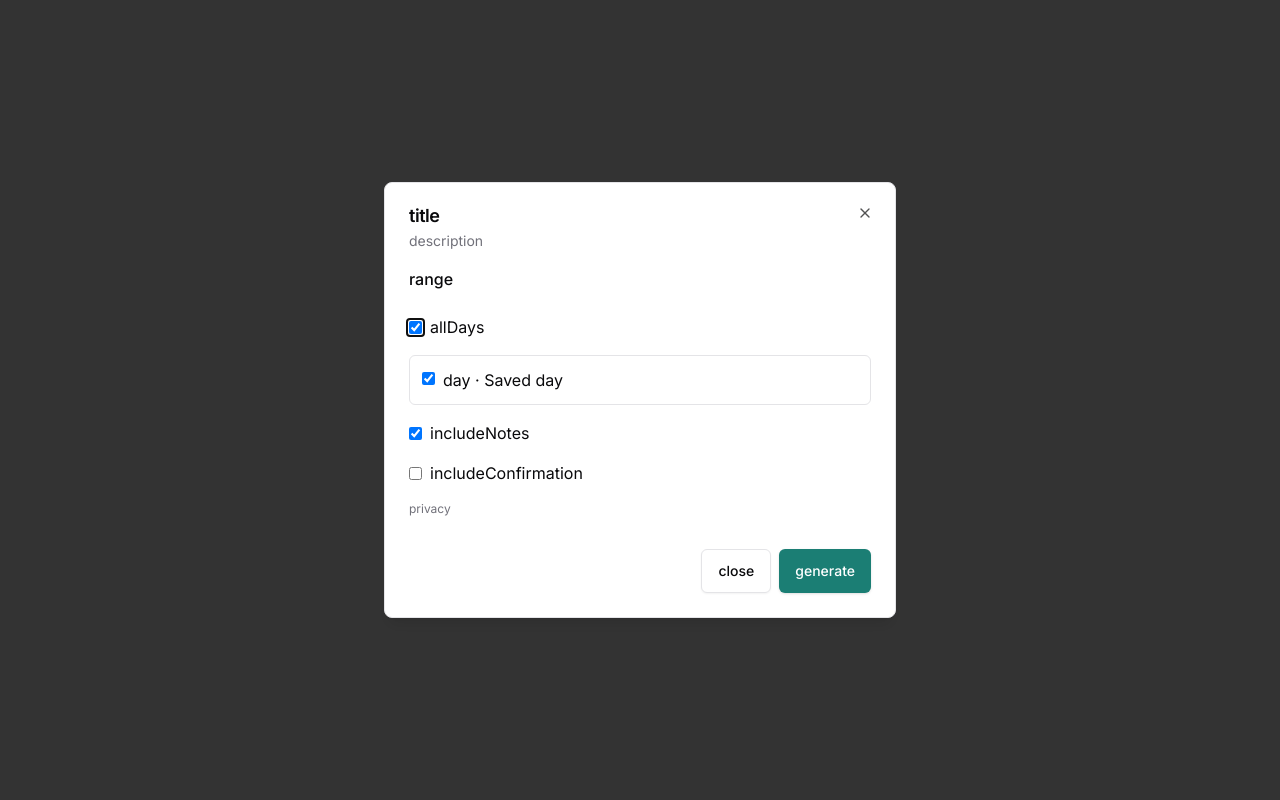
Test: PDF export dialog › blocks new exports while saving or offline
Click the button "generate".
click(825, 571)  # box [779,549,871,593]
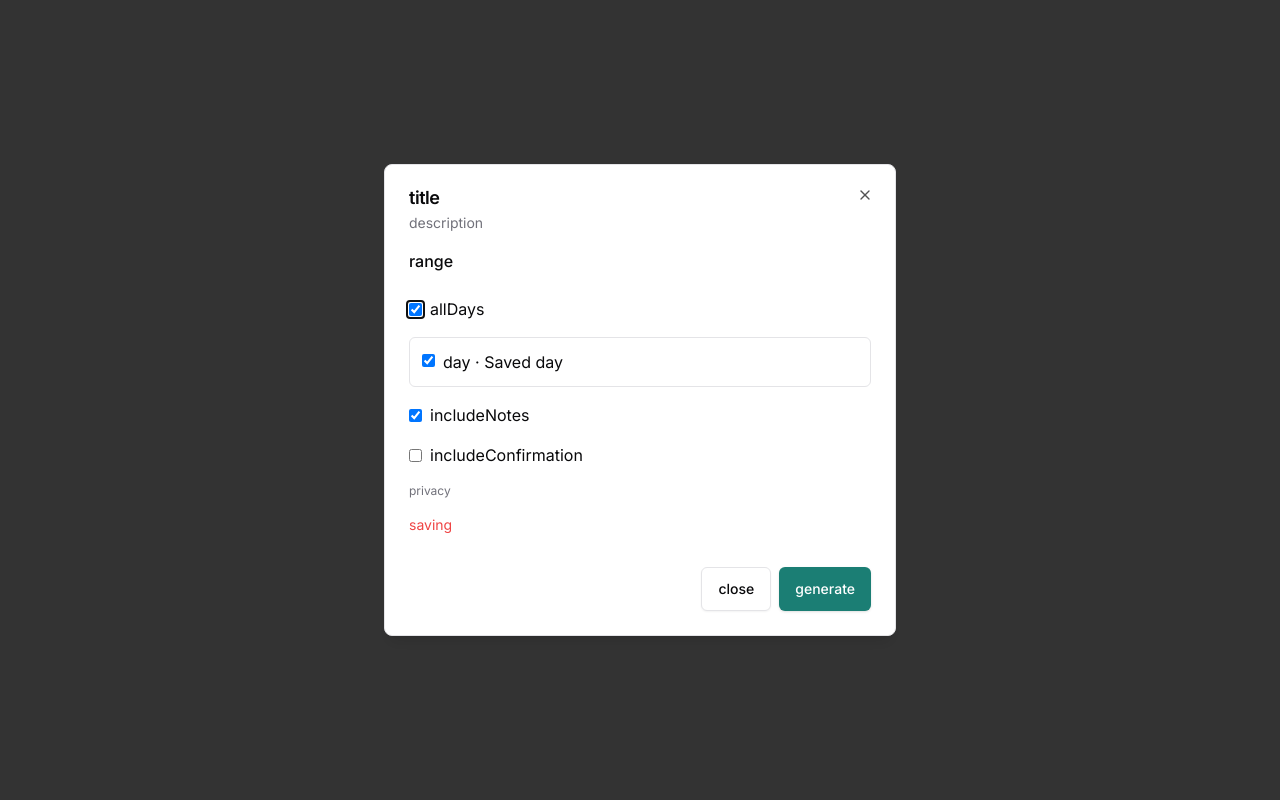
Result: the message reads "saving" at [409,516,452,533]
Click the button "generate".
click(825, 589)  # box [779,567,871,611]
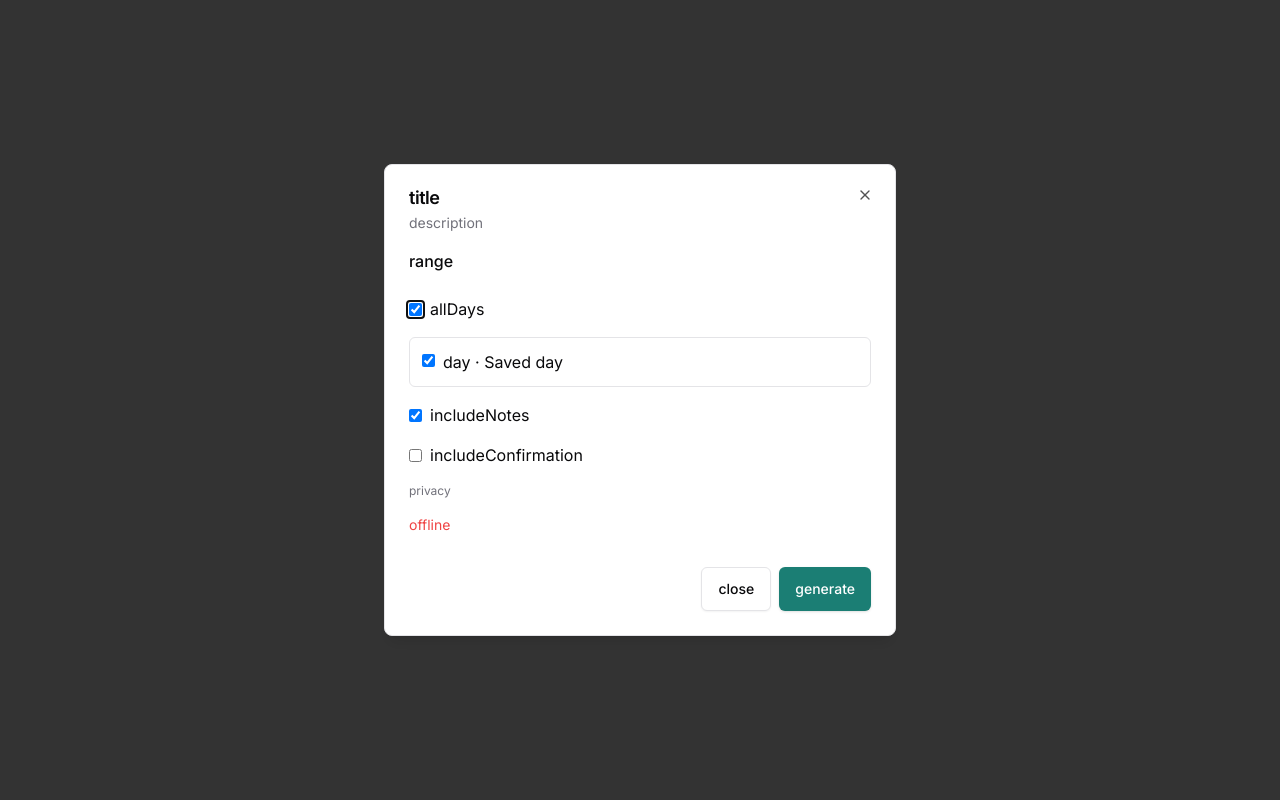
Result: the message reads "offline" at [409,516,450,533]
